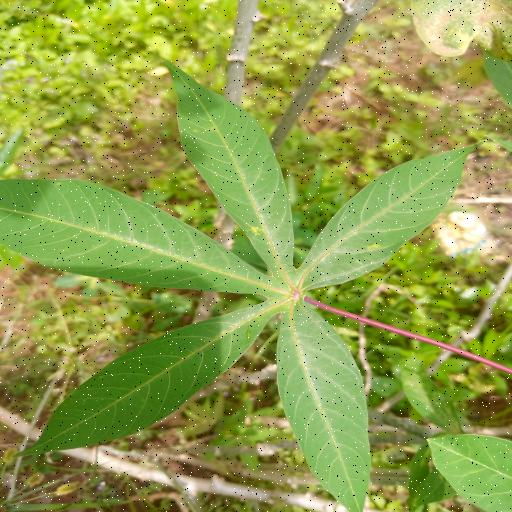Cassava_Healthy: (2, 54, 475, 512)
